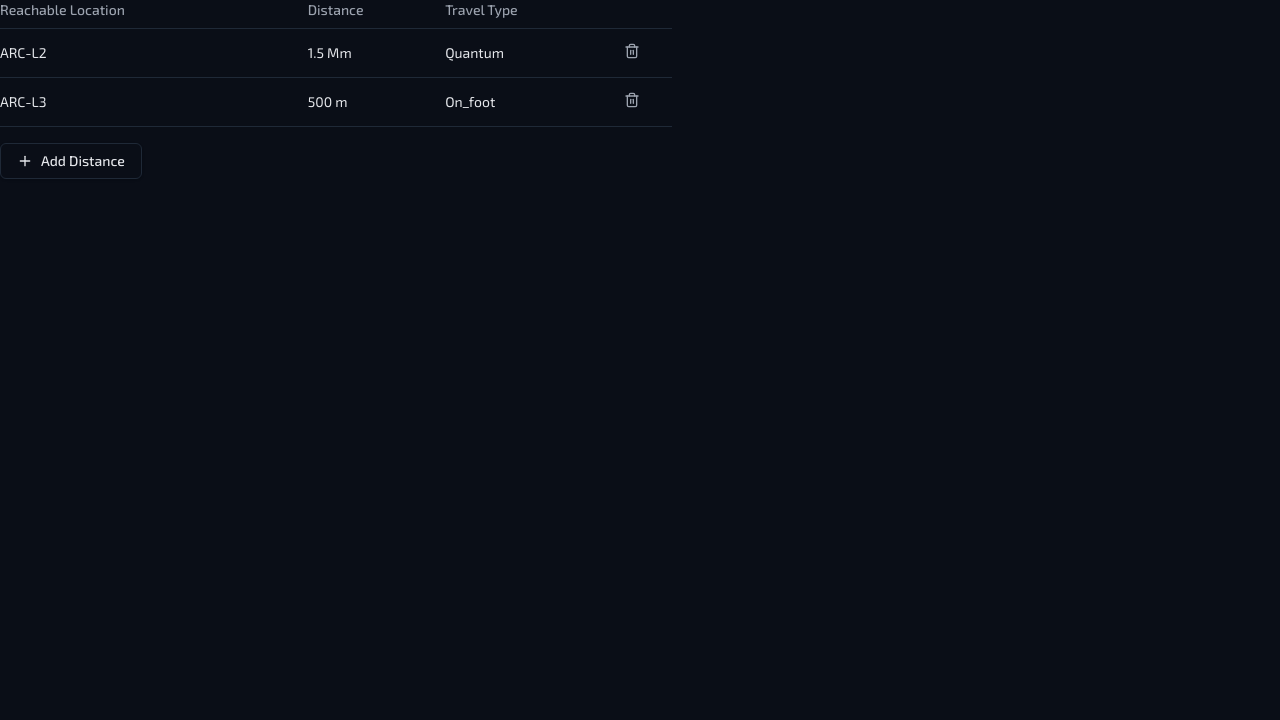
Test: DistancesTab › opens delete confirmation dialog when trash icon is clicked
Expected: the text "ARC-L2" is shown, [0, 28, 308, 78]
What coordinates should you click on to do the following:
click the button named "Delete distance to ARC-L2"
I would click on:
 (632, 51)
Its box is [624, 43, 640, 59].
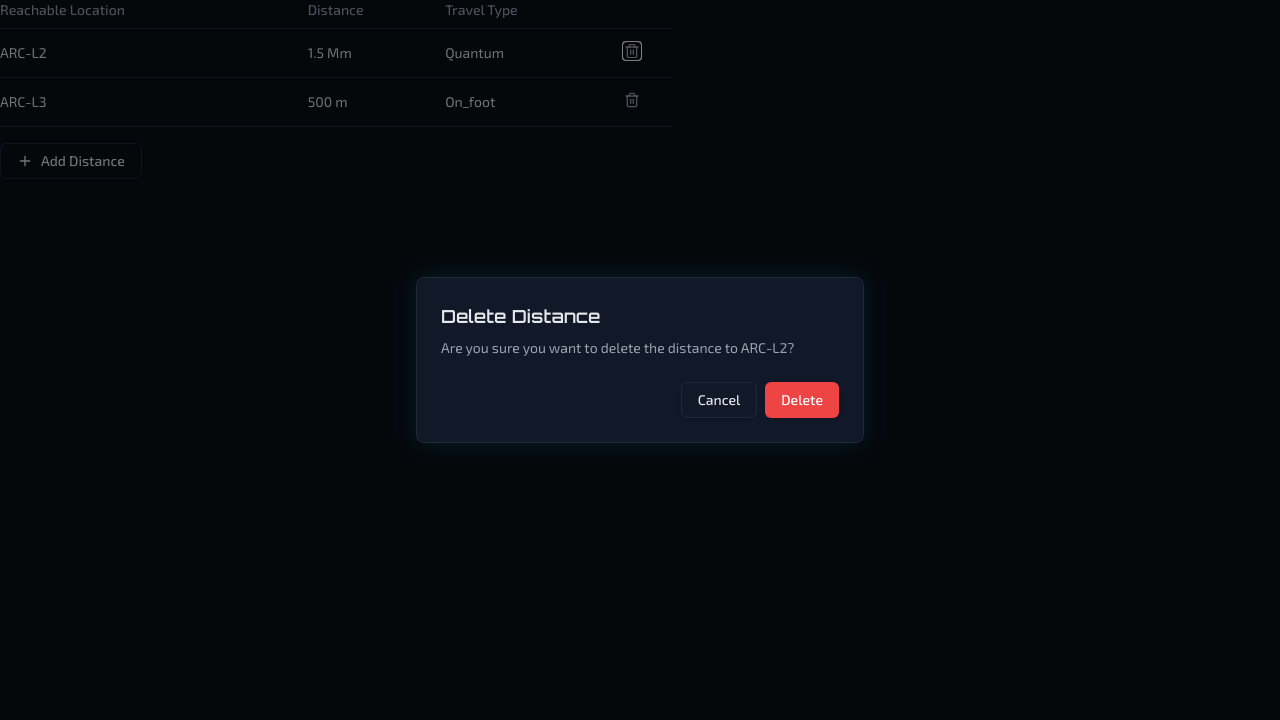
Expected: the dialog is shown
Expected: the text "Are you sure you want to delete the distance to ARC-L2?" is shown, [441, 338, 839, 358]
